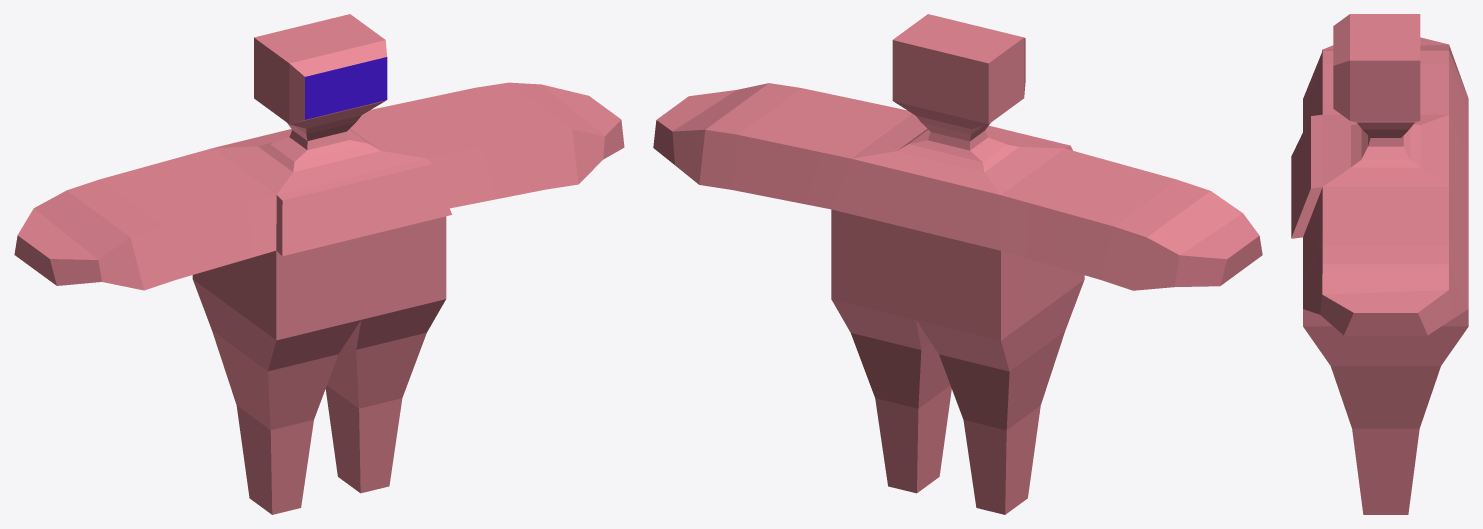
The model's file is TestCharacter.fbx.
3 renders of one model, left to right at view 1: azimuth 30°, elevation 25°; view 2: azimuth 150°, elevation 25°; view 3: azimuth 270°, elevation 25°, orthographic.
Parts seen in each view (by area): view 1: Cube; view 2: Cube; view 3: Cube.
Part boxes in pixels (x1,y1,x2,y2): Cube: [14, 14, 624, 514]; Cube: [653, 14, 1262, 514]; Cube: [1291, 14, 1468, 514].
Size of the model in its own units: 665 by 505 by 181.
